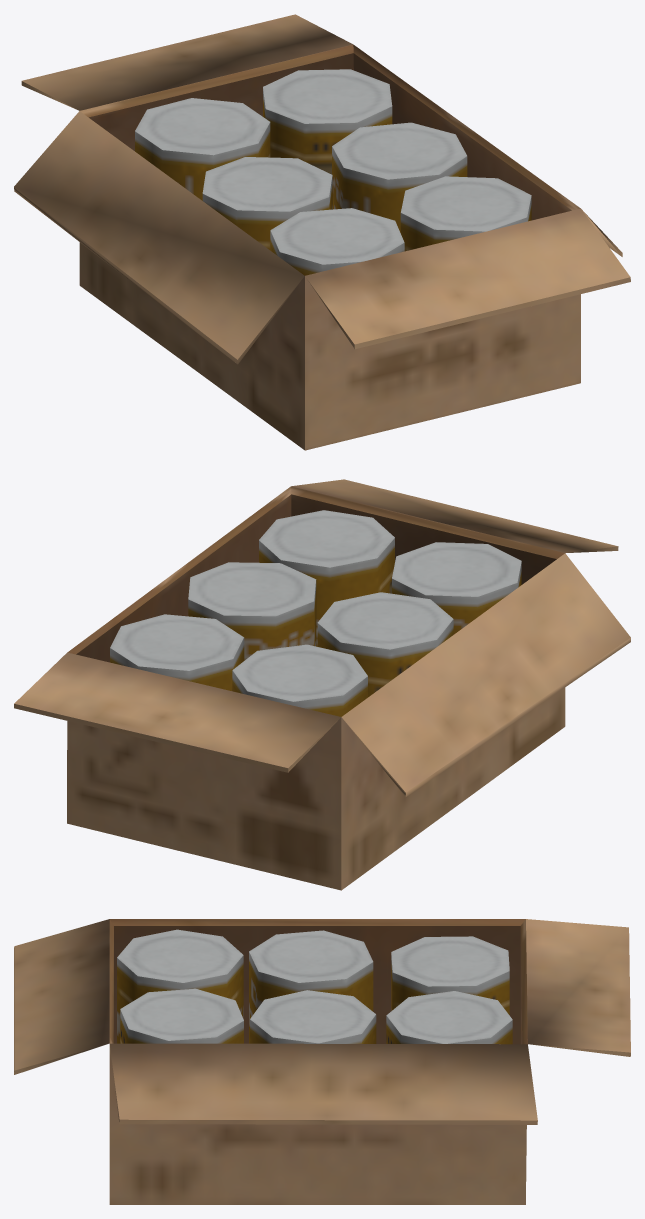
The model's file is Box_CannedFood.fbx.
3 renders of one model, top to bottom at view 1: azimuth 30°, elevation 25°; view 2: azimuth 150°, elevation 25°; view 3: azimuth 270°, elevation 25°, orthographic. The views are drawn at different scales.
Visible parts, largest first — view 1: Box_CannedFood; view 2: Box_CannedFood; view 3: Box_CannedFood.
Boxes of the visible parts, bbox=[...] form: Box_CannedFood: bbox=[14, 14, 630, 450]; Box_CannedFood: bbox=[14, 479, 630, 890]; Box_CannedFood: bbox=[14, 919, 630, 1204].
Size of the model in its own units: 59.19 by 25.35 by 87.79.
